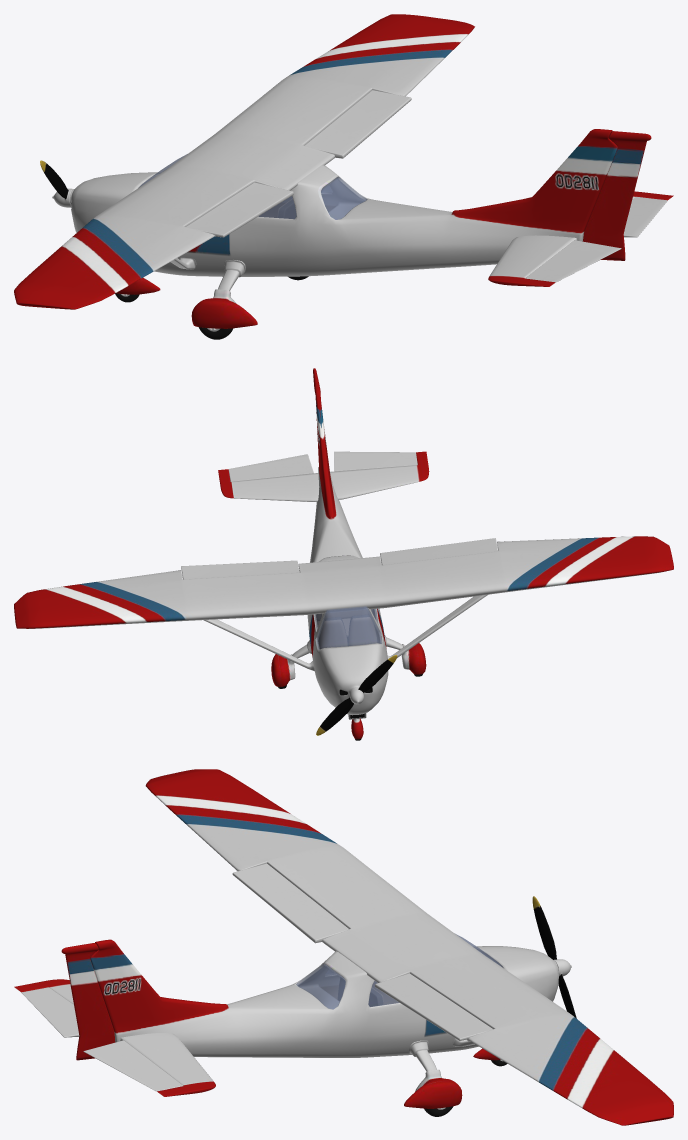
The model's file is aviao.glb.
3 renders of one model, top to bottom at view 1: azimuth 30°, elevation 25°; view 2: azimuth 150°, elevation 25°; view 3: azimuth 270°, elevation 25°, orthographic. The views are drawn at different scales.
Parts seen in each view (by area): view 1: 11804_Airplane_v2_l2; view 2: 11804_Airplane_v2_l2; view 3: 11804_Airplane_v2_l2.
Part boxes in pixels (left/top/right/bottom): 11804_Airplane_v2_l2: left=14, top=14, right=673, bottom=339; 11804_Airplane_v2_l2: left=14, top=368, right=673, bottom=740; 11804_Airplane_v2_l2: left=14, top=769, right=673, bottom=1125.
Bounding box in the file's own units: 946 × 356 × 849.
2 materials, 2 textured.
